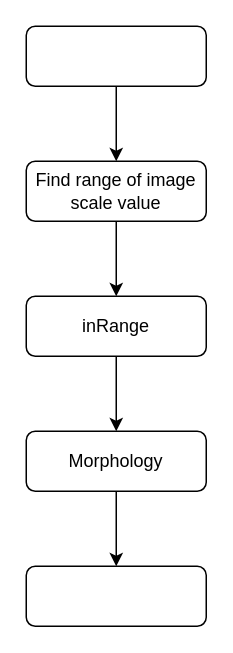
The diagram is 233 pixels wide and 653 high, and some of its shapes have lost their labels. Each missing label, with the centre of its shape:
Bitwise operation: point 115,595
Load video: point 115,55
